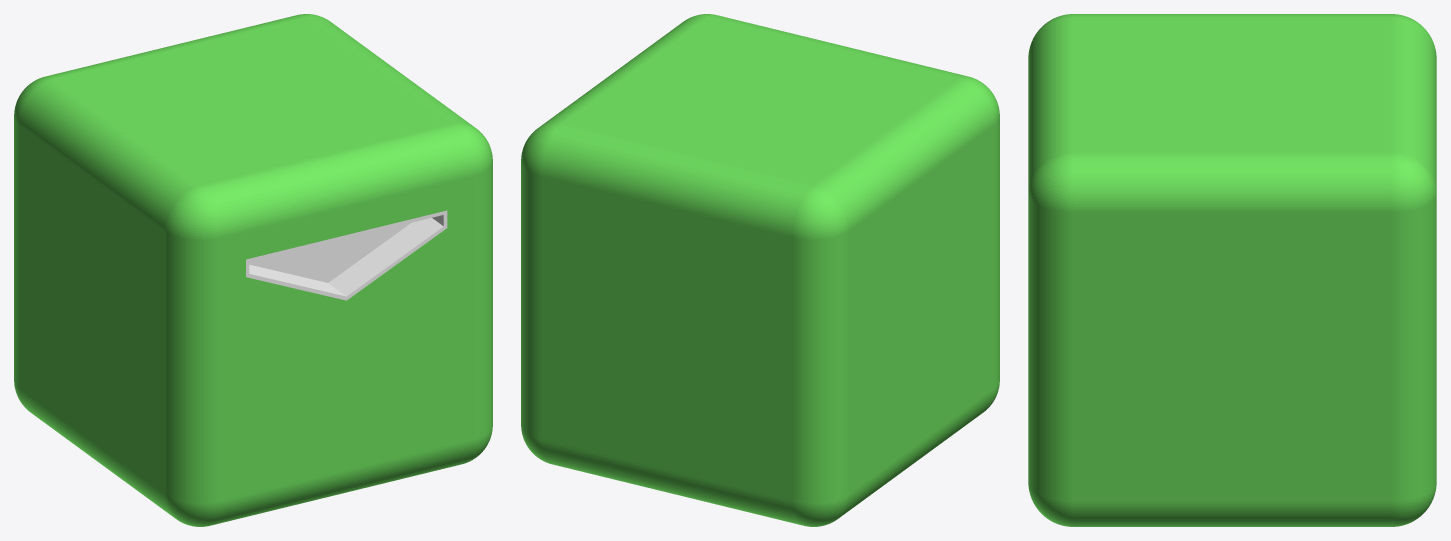
File: Cube_Movement_4.gltf
3 views of the same model, side by side, from view 1: azimuth 30°, elevation 25°; view 2: azimuth 150°, elevation 25°; view 3: azimuth 270°, elevation 25° (orthographic). The views are drawn at different scales.
Parts seen in each view (by area): view 1: Beat_Saber_block, Beat_Saber_arrow; view 2: Beat_Saber_block; view 3: Beat_Saber_block.
Boxes of the visible parts, left/top/right/bottom form: Beat_Saber_block: left=14, top=14, right=492, bottom=526; Beat_Saber_arrow: left=246, top=210, right=447, bottom=300; Beat_Saber_block: left=521, top=14, right=999, bottom=526; Beat_Saber_block: left=1028, top=14, right=1436, bottom=526.
Size of the model in its own units: 10 by 10 by 10.
